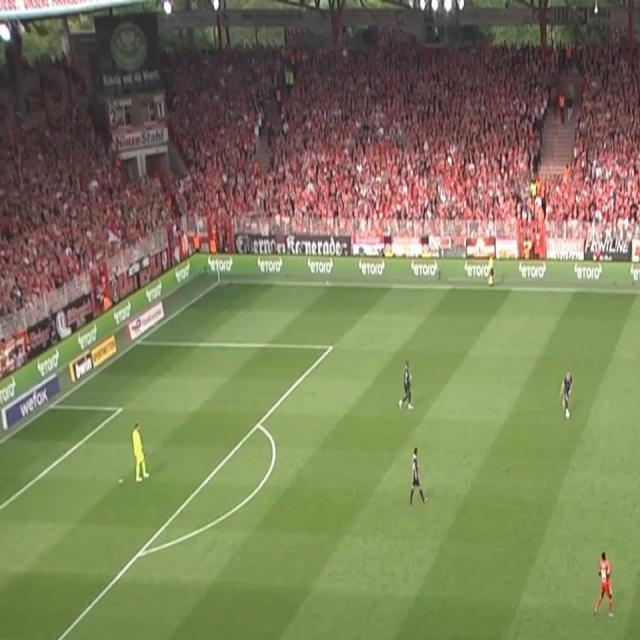ball: (565, 408, 571, 419)
